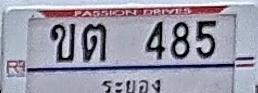4: (146, 20, 164, 58)
5: (196, 20, 216, 58)
8: (171, 20, 190, 58)
A02: (50, 22, 75, 62)
A21: (82, 23, 106, 61)
RYG: (98, 74, 164, 93)
